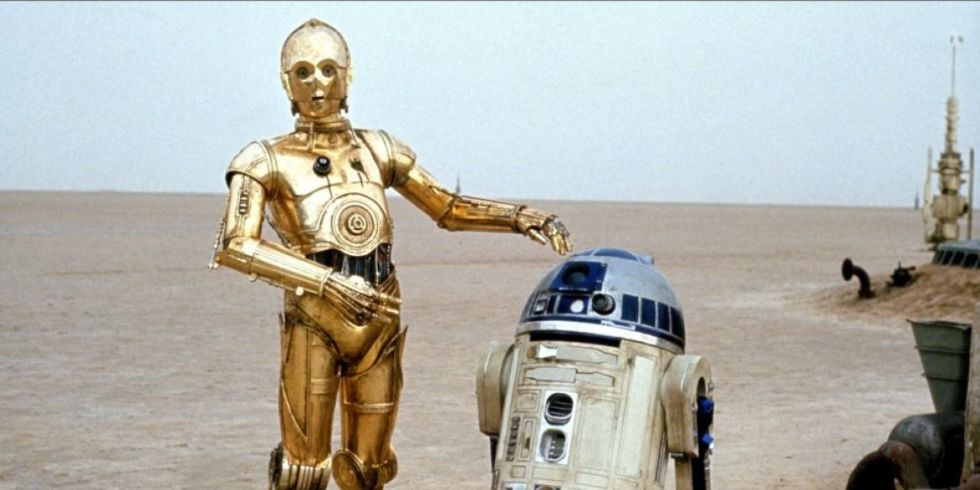r2d2: (476, 247, 714, 490)
